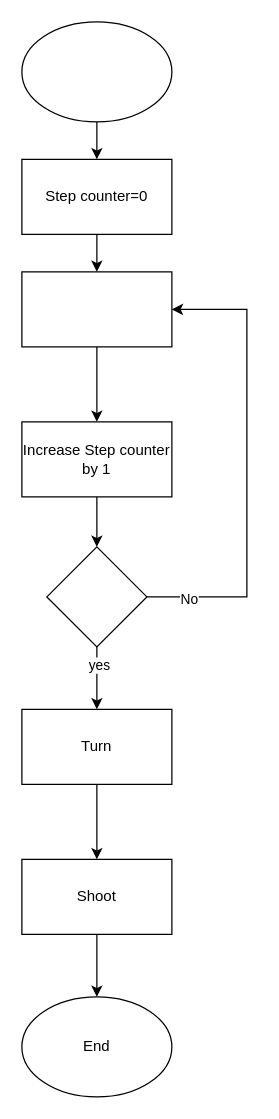
Some shapes in this 279 by 1119 pixel diagram are drawn without their labels. The centre of each missing label's shape, as x and y in pixels:
"Counter =20?" goes at (x=96, y=596).
"Start" goes at (x=96, y=71).
"Take 1 step" goes at (x=96, y=309).
